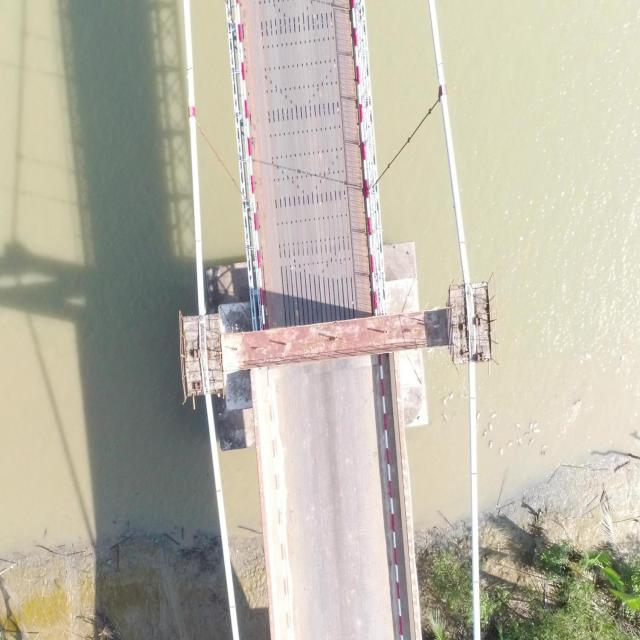crack: (187, 67, 193, 71), (459, 241, 465, 244), (470, 397, 476, 400), (437, 63, 442, 66), (216, 489, 221, 492), (230, 606, 236, 608), (195, 240, 201, 242), (471, 473, 477, 475), (474, 581, 479, 583)
